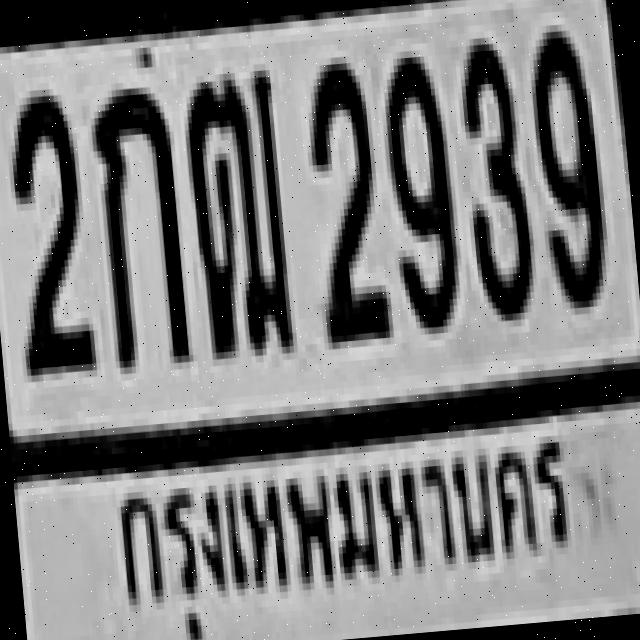10GorGai: (88, 79, 184, 361)
2: (0, 87, 92, 369), (297, 55, 387, 336)
27ThorPhuThao: (180, 63, 290, 353)
3: (451, 36, 533, 316)
9: (522, 22, 608, 303), (376, 48, 458, 330)
Bangkok: (95, 432, 580, 640)
